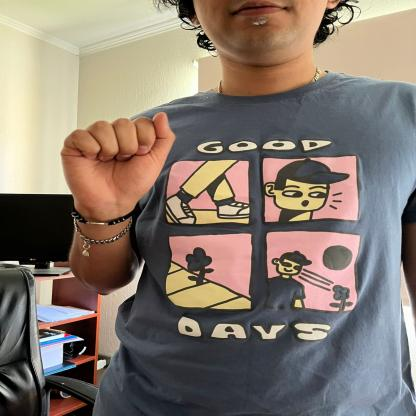A: (58, 108, 175, 209)
